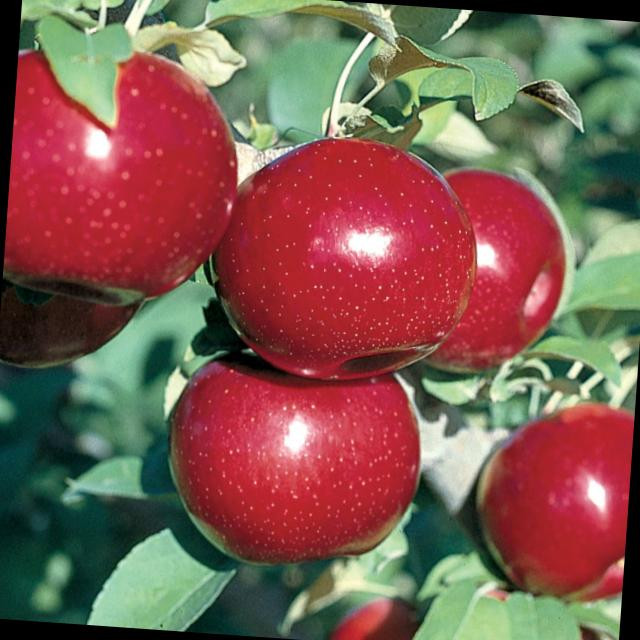apple: (0, 28, 265, 325), (198, 122, 478, 398), (156, 348, 424, 576), (370, 147, 592, 390), (463, 386, 634, 594)
